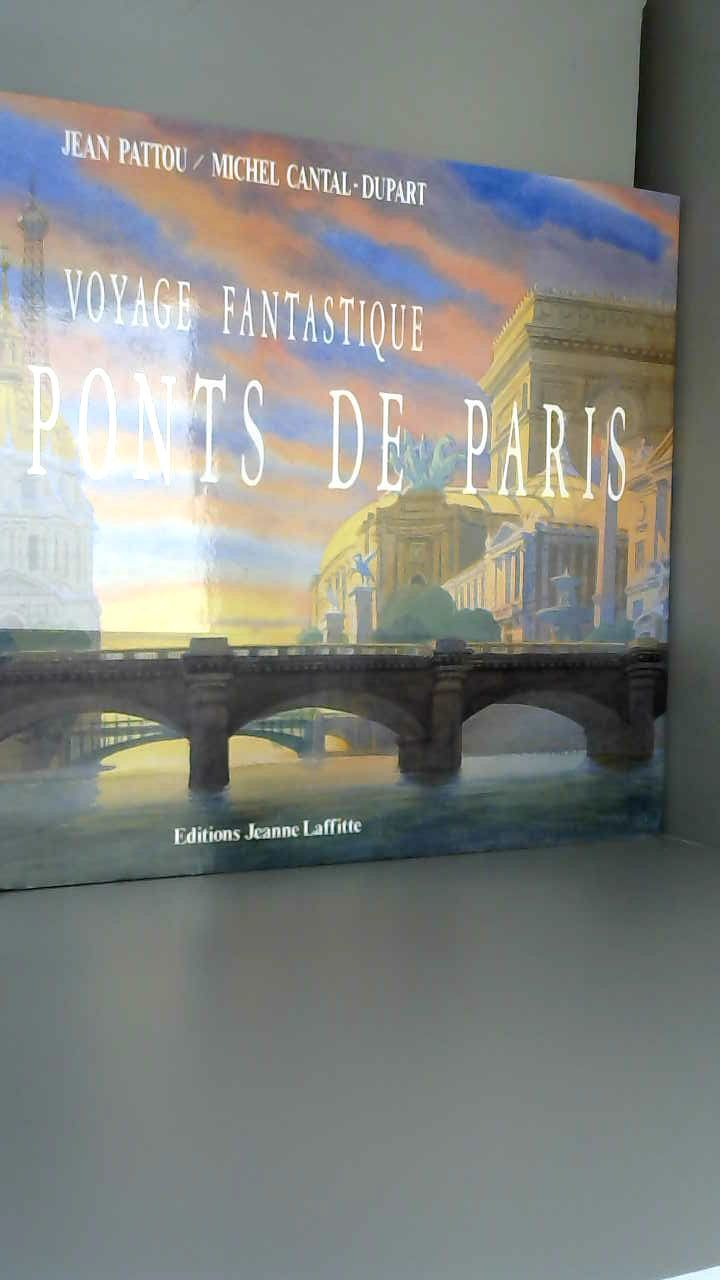book: (0, 78, 704, 914)
